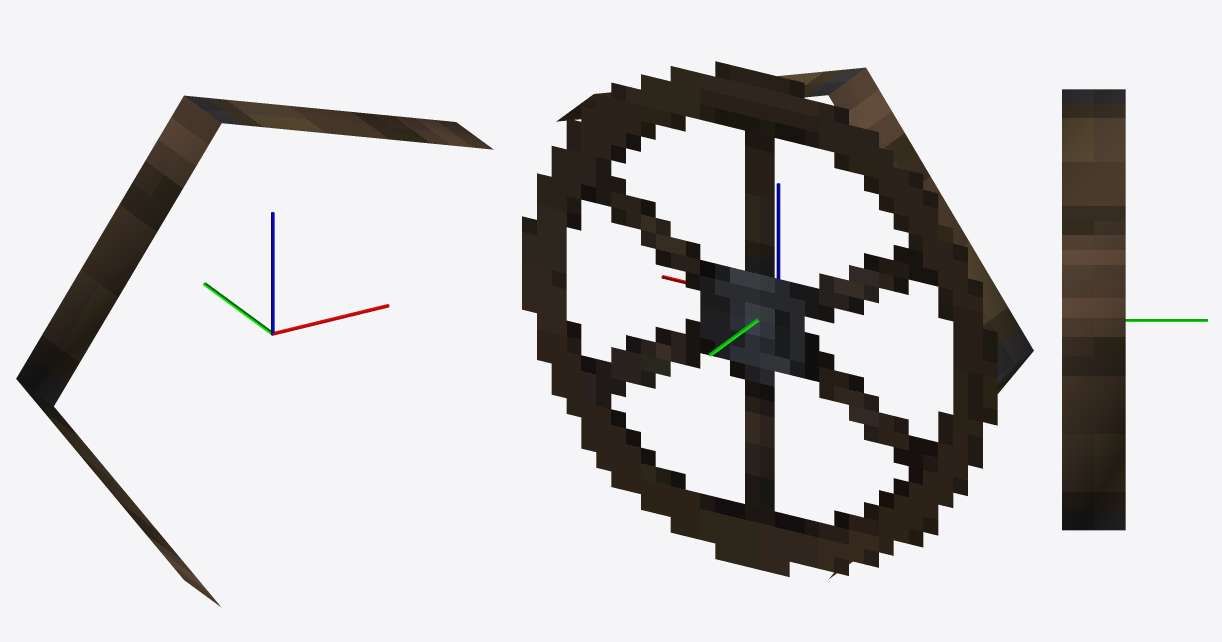
Rendered from wheel.glb.
3 renders of one model, left to right at view 1: azimuth 30°, elevation 25°; view 2: azimuth 150°, elevation 25°; view 3: azimuth 270°, elevation 25°, orthographic. The views are drawn at different scales.
Parts seen in each view (by area): view 1: attachments a wheel spokedModel, Dummy_hotspot; view 2: attachments a wheel spokedModel, Dummy_hotspot; view 3: attachments a wheel spokedModel, Dummy_hotspot.
Boxes of the visible parts, x1=… form: attachments a wheel spokedModel: x1=16, y1=95, x2=493, y2=607; Dummy_hotspot: x1=203, y1=212, x2=389, y2=335; attachments a wheel spokedModel: x1=522, y1=61, x2=1033, y2=579; Dummy_hotspot: x1=661, y1=183, x2=780, y2=356; attachments a wheel spokedModel: x1=1062, y1=89, x2=1125, y2=530; Dummy_hotspot: x1=1125, y1=319, x2=1207, y2=321.
Bounding box in the file's own units: 1.02 × 1.02 × 0.3203.
Materials: 2 (1 with a texture image).
